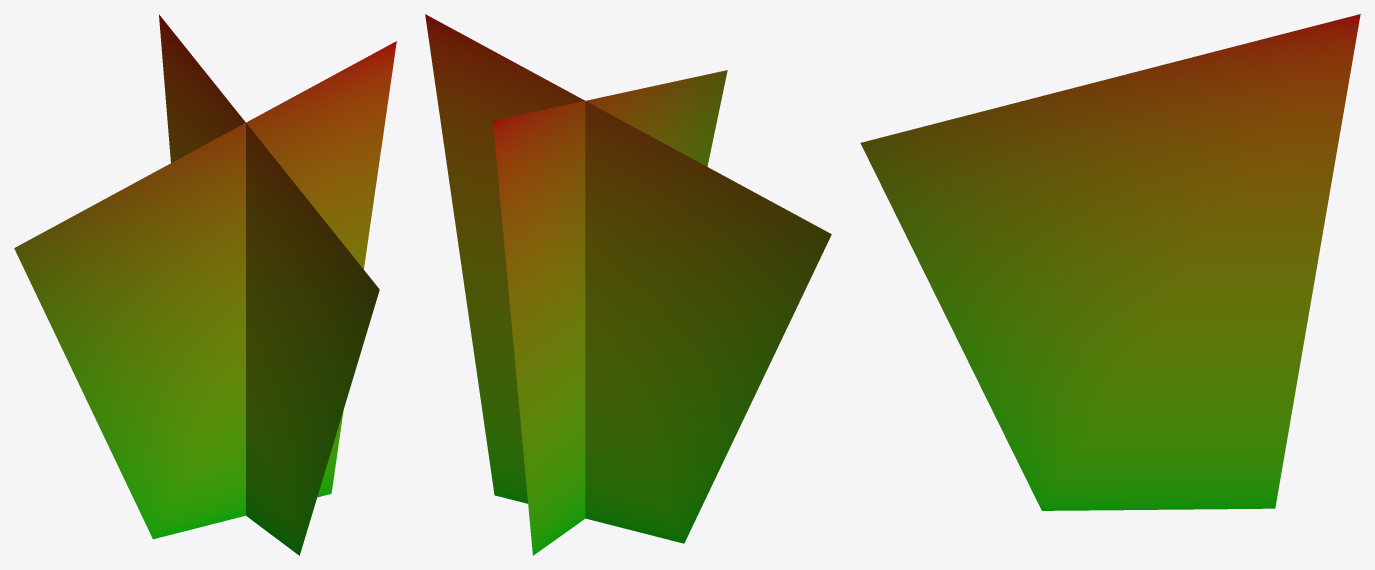
Rendered from Var9_LOD4.fbx.
The picture shows the model from 3 angles, left to right: view 1: azimuth 30°, elevation 25°; view 2: azimuth 150°, elevation 25°; view 3: azimuth 270°, elevation 25°; orthographic projection. The views are drawn at different scales.
Visible parts, largest first — view 1: _u692_Var9_LOD4; view 2: _u692_Var9_LOD4; view 3: _u692_Var9_LOD4.
Part boxes in pixels (box(x1,y1,x2,y2)): _u692_Var9_LOD4: box(14, 14, 396, 555); _u692_Var9_LOD4: box(425, 14, 831, 555); _u692_Var9_LOD4: box(860, 14, 1360, 510).
Size of the model in its own units: 13.15 by 14.42 by 13.15.
